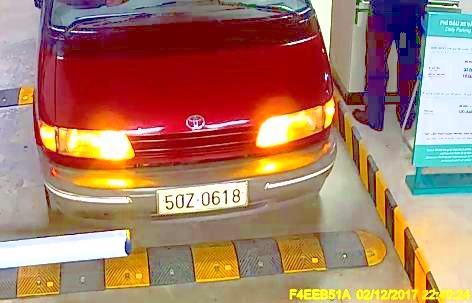plate: (157, 183, 252, 211)
